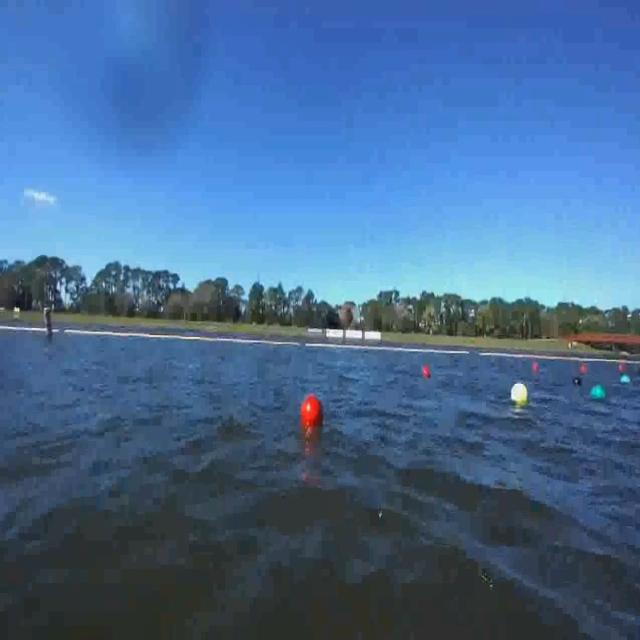black-buoy: (572, 375, 582, 388)
green-buoy: (589, 384, 603, 399), (621, 375, 631, 386)
red-buoy: (300, 398, 321, 429), (422, 364, 431, 378)
yellow-buoy: (510, 380, 527, 405)
